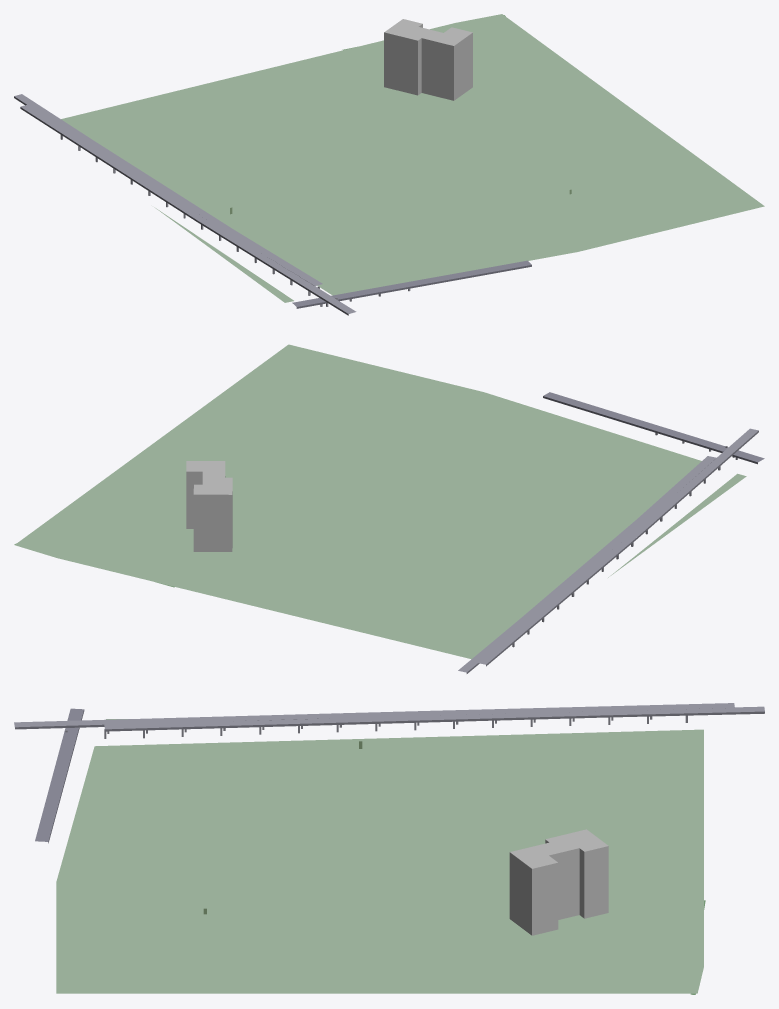
3 renders of one model, top to bottom at view 1: azimuth 30°, elevation 25°; view 2: azimuth 150°, elevation 25°; view 3: azimuth 270°, elevation 25°, orthographic. The views are drawn at different scales.
Bounding box in the file's own units: 509 × 57.59 × 580.
